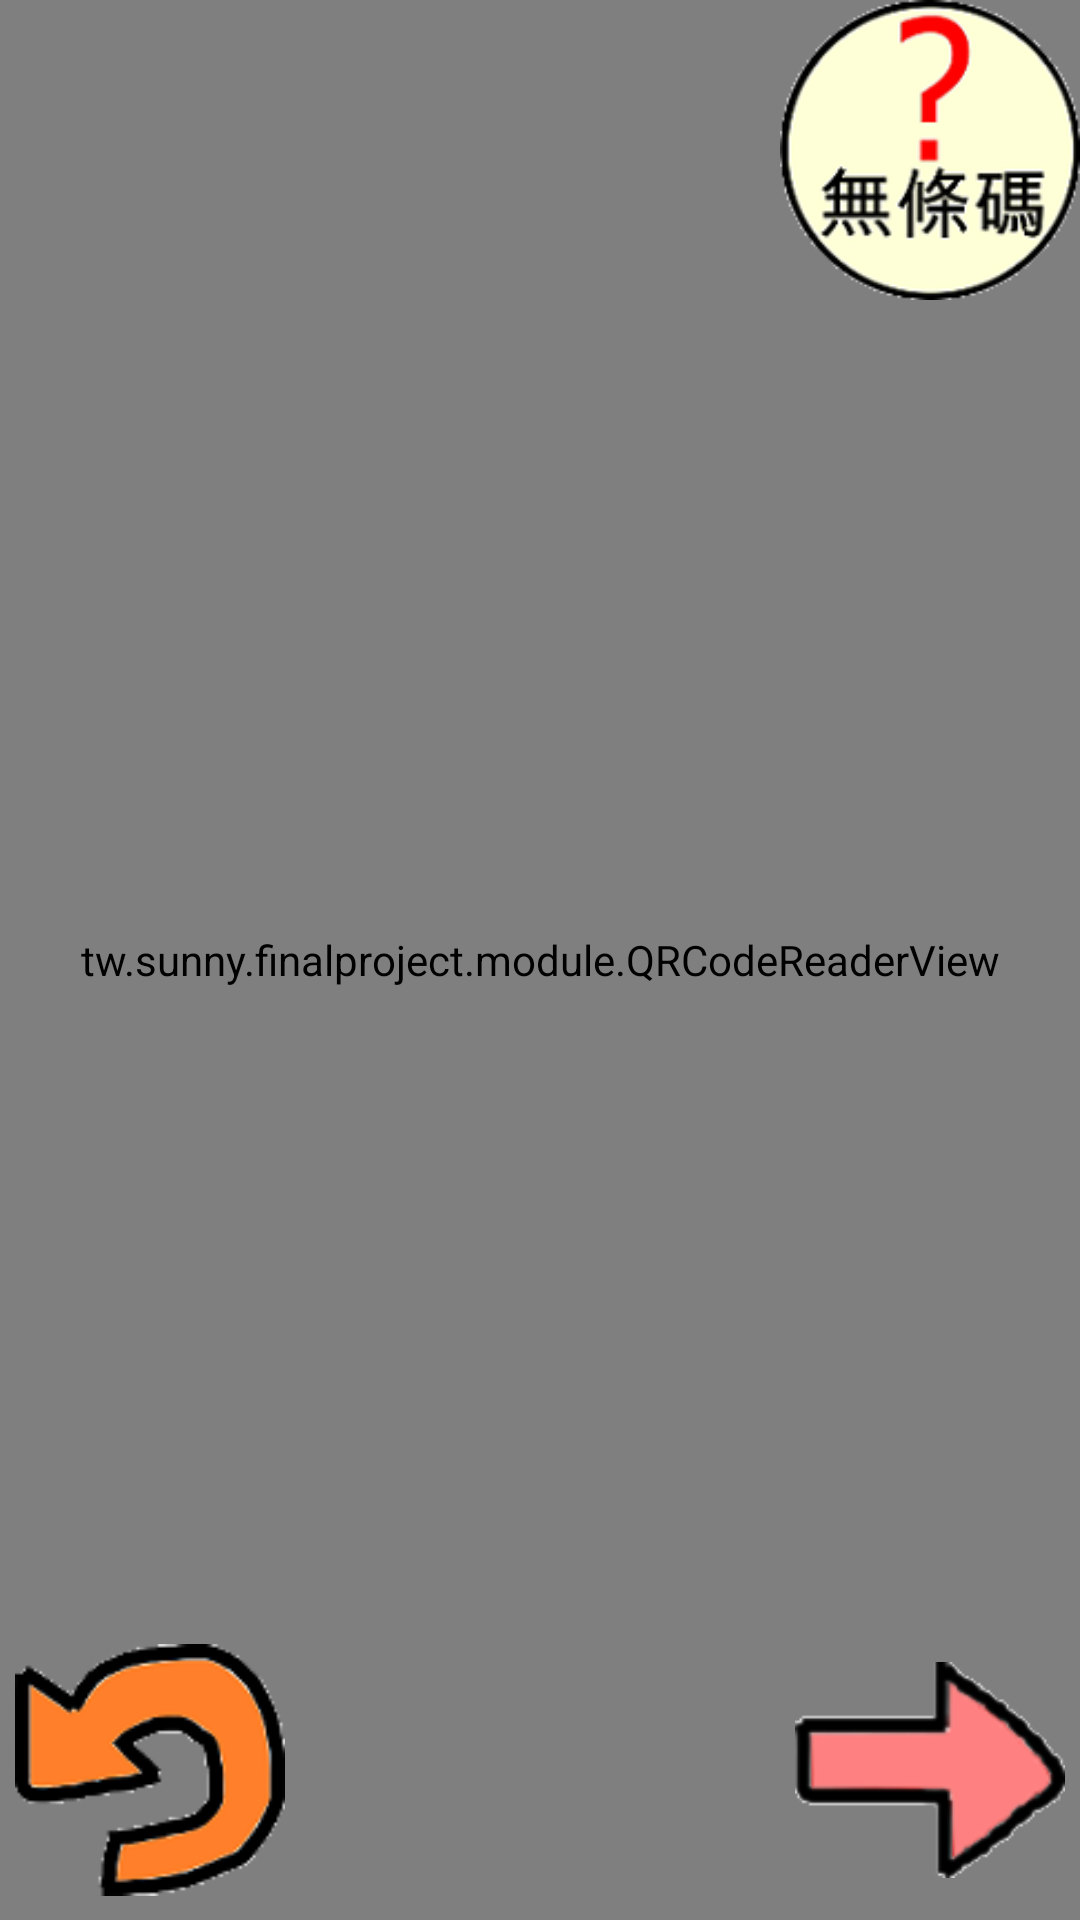

Icons on this 1080px x 1920px Android screen, each with its box as (x1, y1, x2, y2):
next: (795, 1662, 1065, 1878)
returns: (15, 1644, 285, 1896)
